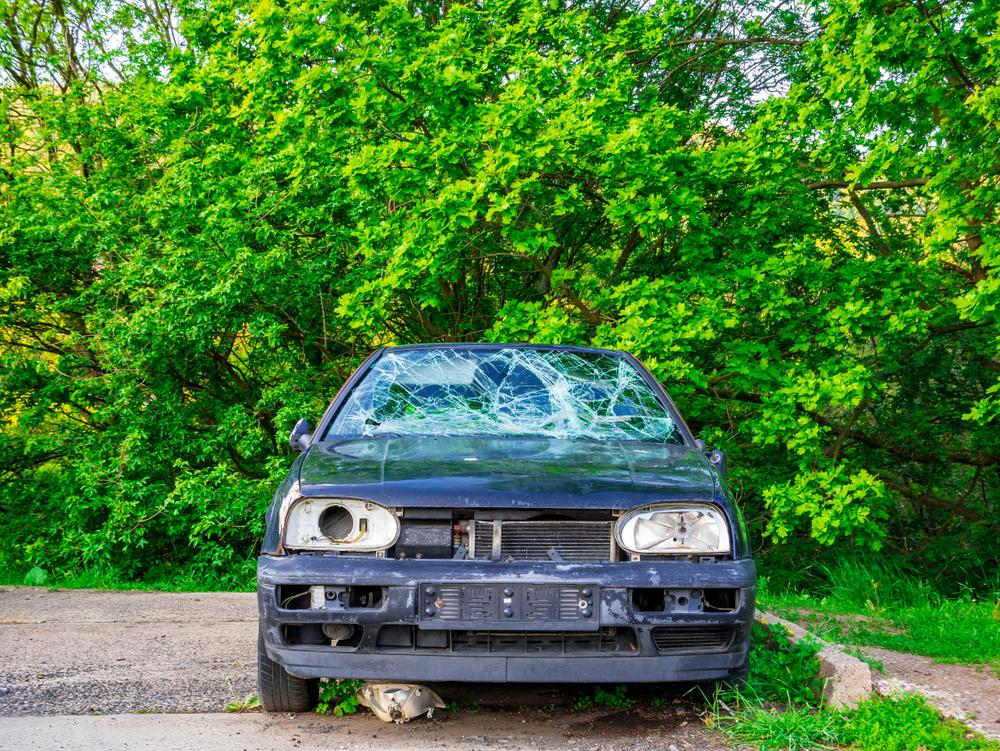glass shatter: (328, 349, 687, 444)
lamp broken: (285, 499, 399, 551), (617, 506, 731, 556)
